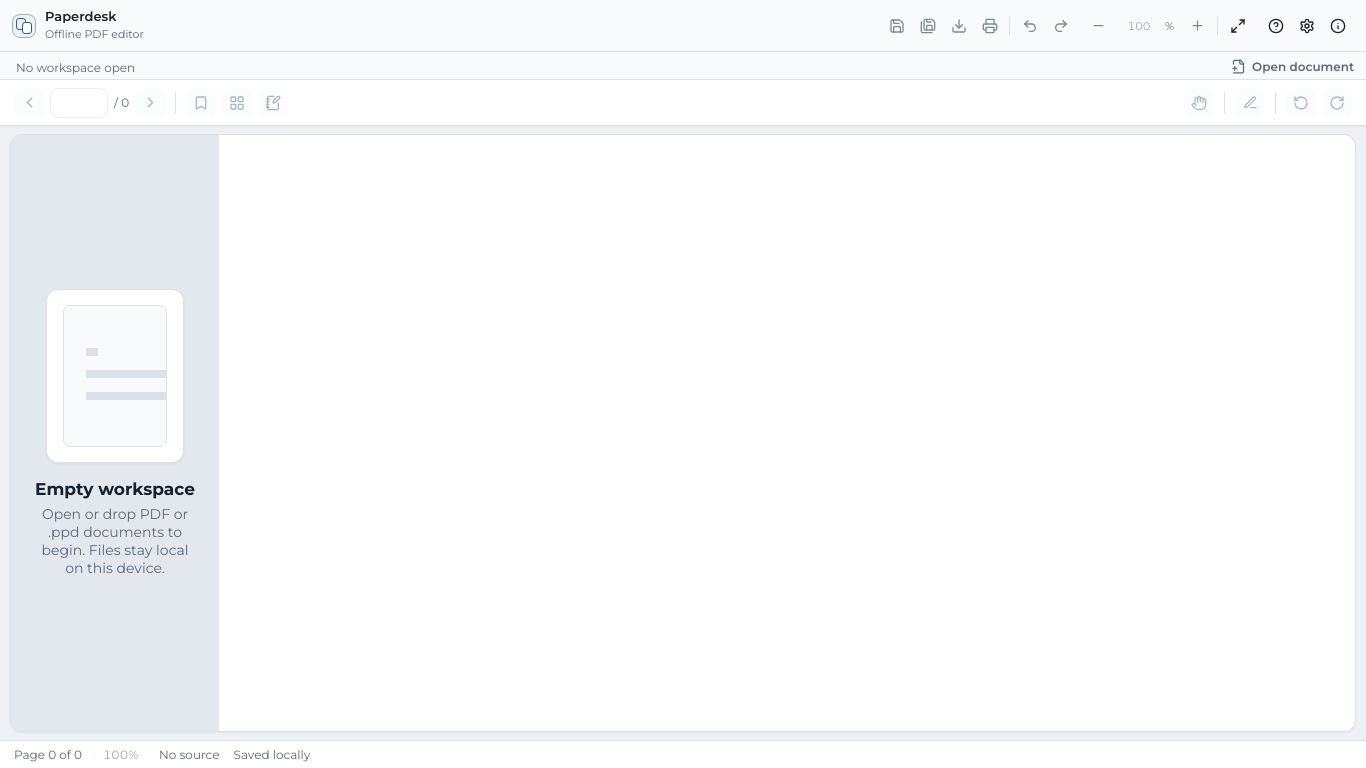
Scenario: AppShell PDF opening › drains PDFs opened by the system after the OS listener is ready
Click the button "Open document".
click(1293, 66)  # box [1219,52,1365,80]
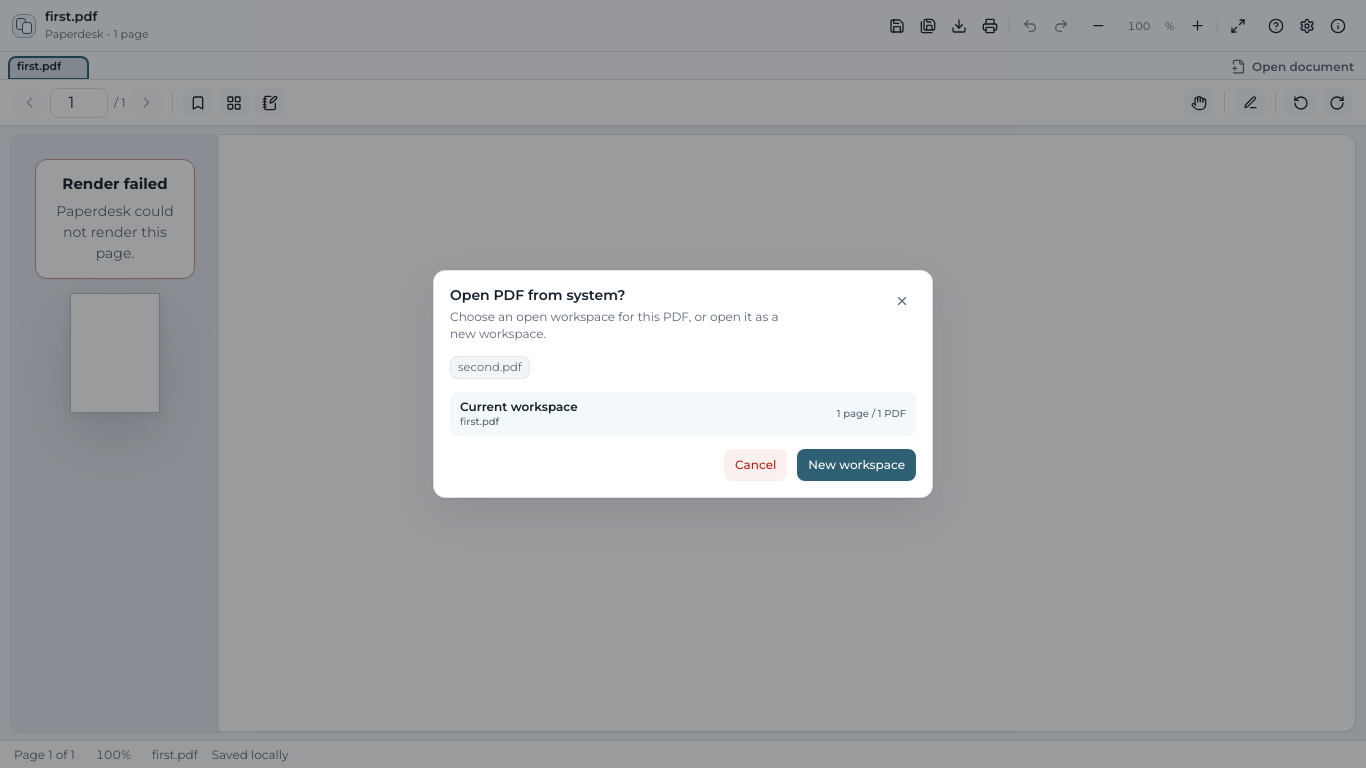
Now the tab "first.pdf" is shown, box [8,56,65,80]
Now the dialog "Open PDF from system?" shows "second.pdf", box [458,360,522,374]
Now the button "Current workspace first.pdf 1 page / 1 PDF" is shown, box [450,392,916,436]
